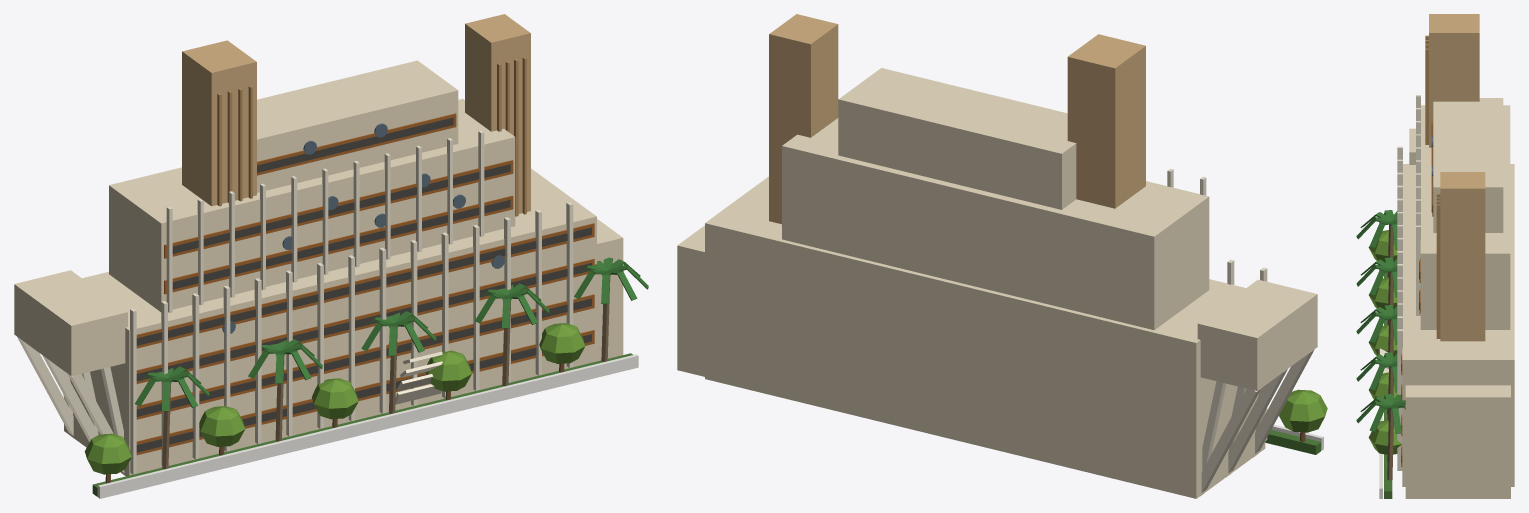
File: ship-house.glb
3 views of the same model, side by side, from view 1: azimuth 30°, elevation 25°; view 2: azimuth 150°, elevation 25°; view 3: azimuth 270°, elevation 25° (orthographic). The views are drawn at different scales.
Visible parts, largest first — view 1: ship-house_Building; view 2: ship-house_Building; view 3: ship-house_Building.
Boxes of the visible parts, x1,y1,x2,y2 form: ship-house_Building: (14,14,648,498); ship-house_Building: (677,14,1327,498); ship-house_Building: (1356,14,1514,498).
Bounding box in the file's own units: 39.62 × 25.13 × 11.27.
